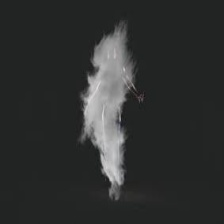smoke: (76, 30, 136, 196)
